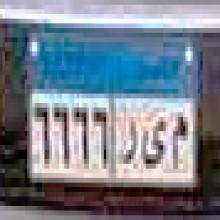6: (72, 96, 89, 171), (90, 107, 109, 174), (52, 99, 70, 168), (33, 101, 50, 167)
meem: (172, 108, 189, 178)
raa: (117, 111, 138, 174)
yaa: (141, 113, 166, 172)
